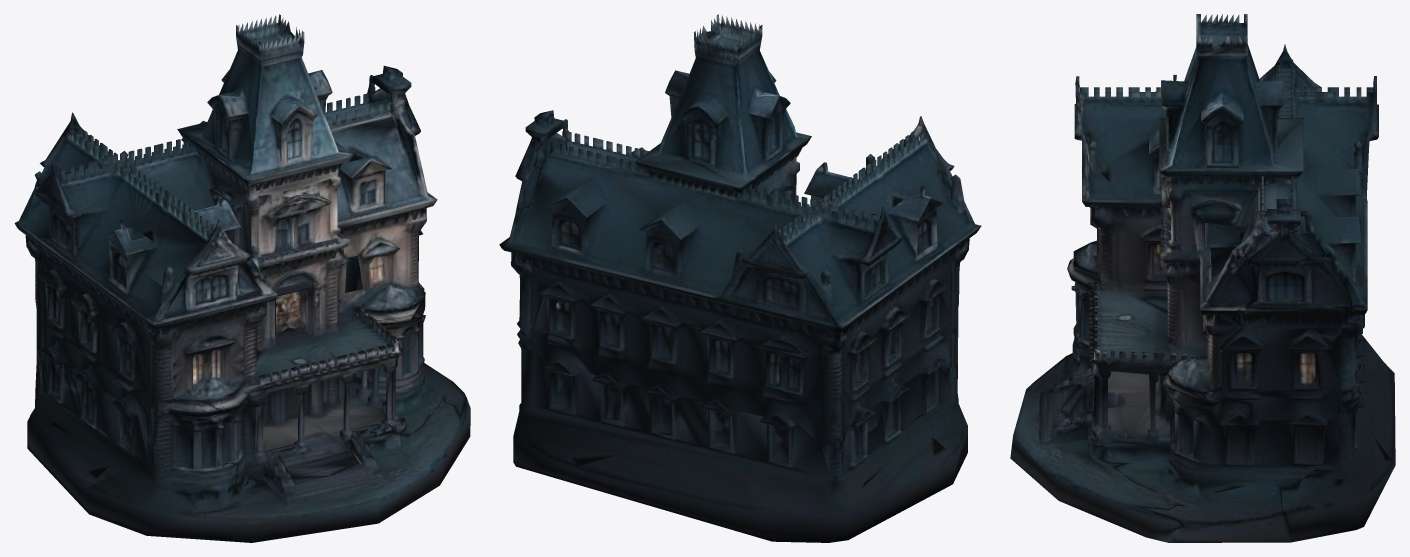
Rendered from haunted-mansion.glb.
3 views of the same model, side by side, from view 1: azimuth 30°, elevation 25°; view 2: azimuth 150°, elevation 25°; view 3: azimuth 270°, elevation 25° (orthographic). The views are drawn at different scales.
Parts seen in each view (by area): view 1: tripo_node_3476503c-bb7b-47ee-b1ab-a869dc25e2b0; view 2: tripo_node_3476503c-bb7b-47ee-b1ab-a869dc25e2b0; view 3: tripo_node_3476503c-bb7b-47ee-b1ab-a869dc25e2b0.
Boxes of the visible parts, x1,y1,x2,y2 form: tripo_node_3476503c-bb7b-47ee-b1ab-a869dc25e2b0: (14, 14, 470, 542); tripo_node_3476503c-bb7b-47ee-b1ab-a869dc25e2b0: (499, 14, 981, 542); tripo_node_3476503c-bb7b-47ee-b1ab-a869dc25e2b0: (1010, 14, 1395, 542).
Size of the model in its own units: 0.9513 by 0.9781 by 0.7924.
Materials: 1 (1 with a texture image).
